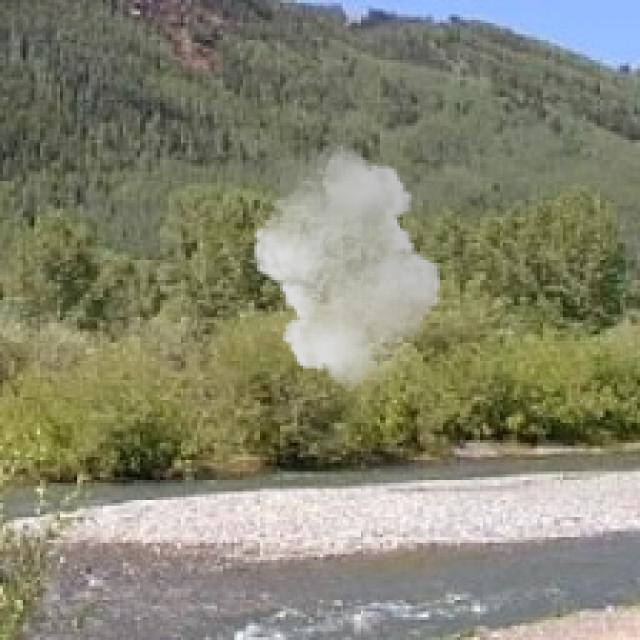Smoke: (246, 142, 448, 392)
